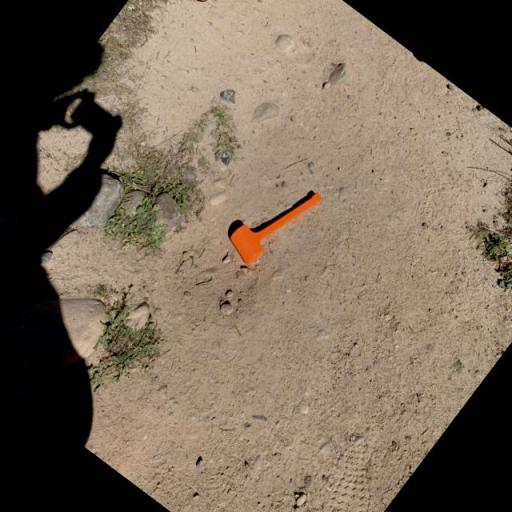mallet: (220, 162, 328, 281)
